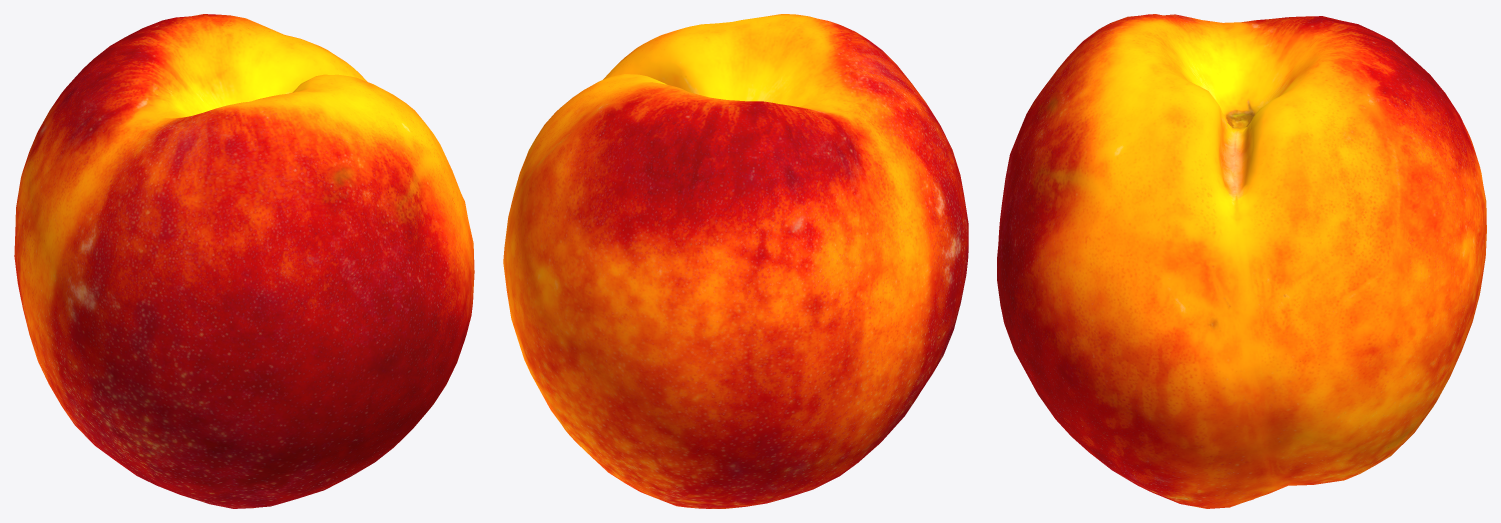
File: peach_3d_scan__free_photogrammetry_model.glb
The picture shows the model from 3 angles, left to right: view 1: azimuth 30°, elevation 25°; view 2: azimuth 150°, elevation 25°; view 3: azimuth 270°, elevation 25°; orthographic projection. The views are drawn at different scales.
Parts seen in each view (by area): view 1: peach_02_691D5FA5_Mid.001; view 2: peach_02_691D5FA5_Mid.001; view 3: peach_02_691D5FA5_Mid.001.
Boxes of the visible parts, x1,y1,x2,y2 form: peach_02_691D5FA5_Mid.001: (14,14,474,508); peach_02_691D5FA5_Mid.001: (503,14,968,508); peach_02_691D5FA5_Mid.001: (997,14,1486,508).
Size of the model in its own units: 0.0416 by 0.0447 by 0.0441.
1 material, 1 textured.
